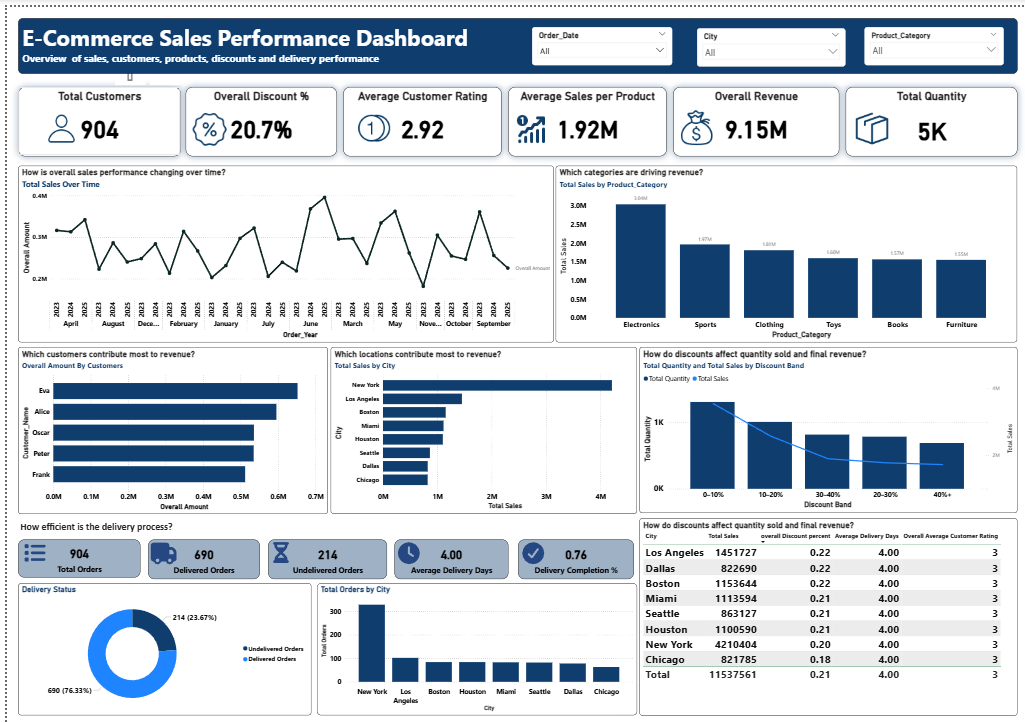

This screenshot's page, from the dashboard's own definition file:
{"tool":"powerbi","page":{"name":"Page 1","canvas":[2500,2000],"ordinal":0},"visuals":[{"type":"card","title":"Average Customer Rating","fields":{"Values":["cleaned_ecommerce_data.Overall Customer Rating"]},"box":[816,194,384,168],"z":0},{"type":"card","title":"Total Customers","fields":{"Values":["cleaned_ecommerce_data.Total Customers"]},"box":[26,194,394,168],"z":1000},{"type":"card","title":"Overall Revenue","fields":{"Values":["cleaned_ecommerce_data.Overall Amount"]},"box":[1614,194,402,168],"z":2000},{"type":"card","title":"Average Sales per Product","fields":{"Values":["cleaned_ecommerce_data.Avg sales per product"]},"box":[1214,194,384,168],"z":3000},{"type":"card","title":"Overall Discount %","fields":{"Values":["cleaned_ecommerce_data.overall Discount percent"]},"box":[434,194,366,168],"z":4000},{"type":"lineChart","title":"How is overall sales performance changing over time?","fields":{"Category":["cleaned_ecommerce_data.Order_Month_Name","cleaned_ecommerce_data.Order_Year"],"Y":["cleaned_ecommerce_data.Overall Amount"]},"box":[26,384,1298,428],"z":5000},{"type":"columnChart","title":"Which categories are driving revenue?","fields":{"Y":["cleaned_ecommerce_data.Total Sales"],"Category":["cleaned_ecommerce_data.Product_Category"]},"box":[1330,384,1118,428],"z":6000},{"type":"barChart","title":"Which locations contribute most to revenue?","fields":{"Y":["cleaned_ecommerce_data.Total Sales"],"Category":["cleaned_ecommerce_data.City"]},"box":[784,824,742,404],"z":7000},{"type":"lineClusteredColumnComboChart","title":"How do discounts affect quantity sold and final revenue?","fields":{"Y":["cleaned_ecommerce_data.Total Quantity"],"Y2":["cleaned_ecommerce_data.Total Sales"],"Category":["cleaned_ecommerce_data.Discount Band"]},"box":[1532,824,916,402],"z":8000},{"type":"card","title":"Total Quantity","fields":{"Values":["cleaned_ecommerce_data.Total Quantity"]},"box":[2032,194,416,168],"z":9000},{"type":"barChart","title":"Which customers contribute most to revenue?","fields":{"Category":["cleaned_ecommerce_data.Customer_Name"],"Y":["cleaned_ecommerce_data.Overall Amount"]},"box":[26.7,823.3,750,405],"z":10000},{"type":"donutChart","title":"Delivery Status","fields":{"Y":["cleaned_ecommerce_data.Undelivered Orders","cleaned_ecommerce_data.Delivered Orders"]},"box":[26,1398,710,320],"z":11000},{"type":"card","fields":{"Values":["cleaned_ecommerce_data.Total Orders"]},"box":[26,1290,296,92],"z":12000},{"type":"card","fields":{"Values":["cleaned_ecommerce_data.Delivered Orders"]},"box":[342,1290,270,96],"z":13000},{"type":"card","fields":{"Values":["cleaned_ecommerce_data.Undelivered Orders"]},"box":[632,1290,288,96],"z":14000},{"type":"card","fields":{"Values":["cleaned_ecommerce_data.Delivery Completion %"]},"box":[1240,1290,280,96],"z":15000},{"type":"card","fields":{"Values":["cleaned_ecommerce_data.Average Delivery Days"]},"box":[938,1290,276,96],"z":16000},{"type":"tableEx","title":"How do discounts affect quantity sold and final revenue?","fields":{"Values":["cleaned_ecommerce_data.City","cleaned_ecommerce_data.Total Sales","cleaned_ecommerce_data.overall Discount percent","cleaned_ecommerce_data.Average Delivery Days","cleaned_ecommerce_data.Overall Average Customer Rating"]},"box":[1532,1240,916,478],"z":17000},{"type":"textbox","box":[26,28,2422,134],"z":18000},{"type":"textbox","box":[26,1240,592,44],"z":19000},{"type":"columnChart","fields":{"Category":["cleaned_ecommerce_data.City"],"Y":["cleaned_ecommerce_data.Total Orders"]},"box":[750,1398,776,320],"z":20000},{"type":"image","box":[838.3,248.3,100,90],"z":21000},{"type":"image","box":[92,248,82,96],"z":22000},{"type":"image","box":[420,250,140,90],"z":23000},{"type":"image","box":[1215,255,113.3,86.7],"z":24000},{"type":"image","box":[1613.3,248.3,120,91.7],"z":25000},{"type":"image","box":[2031.7,246.7,133.3,98.3],"z":26000},{"type":"image","box":[26.7,1290,80,65],"z":27000},{"type":"image","box":[328.3,1288.3,105,70],"z":28000},{"type":"image","box":[625,1291.7,80,63.3],"z":29000},{"type":"image","box":[938.3,1291.7,70,66.7],"z":30000},{"type":"image","box":[1240,1291.7,73.3,66.7],"z":31000},{"type":"slicer","fields":{"Values":["cleaned_ecommerce_data.Product_Category"]},"box":[2080,47.5,337.5,92.5],"z":32000},{"type":"slicer","fields":{"Values":["cleaned_ecommerce_data.City"]},"box":[1672.5,50,360,92.5],"z":33000},{"type":"slicer","fields":{"Values":["cleaned_ecommerce_data.Order_Date"]},"box":[1272.5,47.5,340,92.5],"z":34000}]}

Visuals, with their boxes on the page's 2500x2000 design canvas (x1, y1, x2, y2). These are canvas units, not pixel positions in the 1025x723 screenshot, which may show the page scaled, cropped or inside an application window:
"Average Customer Rating" card: 816/194/1200/362
"Total Customers" card: 26/194/420/362
"Overall Revenue" card: 1614/194/2016/362
"Average Sales per Product" card: 1214/194/1598/362
"Overall Discount %" card: 434/194/800/362
"How is overall sales performance changing over time?" lineChart: 26/384/1324/812
"Which categories are driving revenue?" columnChart: 1330/384/2448/812
"Which locations contribute most to revenue?" barChart: 784/824/1526/1228
"How do discounts affect quantity sold and final revenue?" lineClusteredColumnComboChart: 1532/824/2448/1226
"Total Quantity" card: 2032/194/2448/362
"Which customers contribute most to revenue?" barChart: 27/823/777/1228
"Delivery Status" donutChart: 26/1398/736/1718
card - cleaned_ecommerce_data.Total Orders: 26/1290/322/1382
card - cleaned_ecommerce_data.Delivered Orders: 342/1290/612/1386
card - cleaned_ecommerce_data.Undelivered Orders: 632/1290/920/1386
card - cleaned_ecommerce_data.Delivery Completion %: 1240/1290/1520/1386
card - cleaned_ecommerce_data.Average Delivery Days: 938/1290/1214/1386
"How do discounts affect quantity sold and final revenue?" tableEx: 1532/1240/2448/1718
textbox: 26/28/2448/162
textbox: 26/1240/618/1284
columnChart - cleaned_ecommerce_data.City x cleaned_ecommerce_data.Total Orders: 750/1398/1526/1718
image: 838/248/938/338
image: 92/248/174/344
image: 420/250/560/340
image: 1215/255/1328/342
image: 1613/248/1733/340
image: 2032/247/2165/345
image: 27/1290/107/1355
image: 328/1288/433/1358
image: 625/1292/705/1355
image: 938/1292/1008/1358
image: 1240/1292/1313/1358
slicer - cleaned_ecommerce_data.Product_Category: 2080/48/2418/140
slicer - cleaned_ecommerce_data.City: 1672/50/2032/142
slicer - cleaned_ecommerce_data.Order_Date: 1272/48/1612/140
